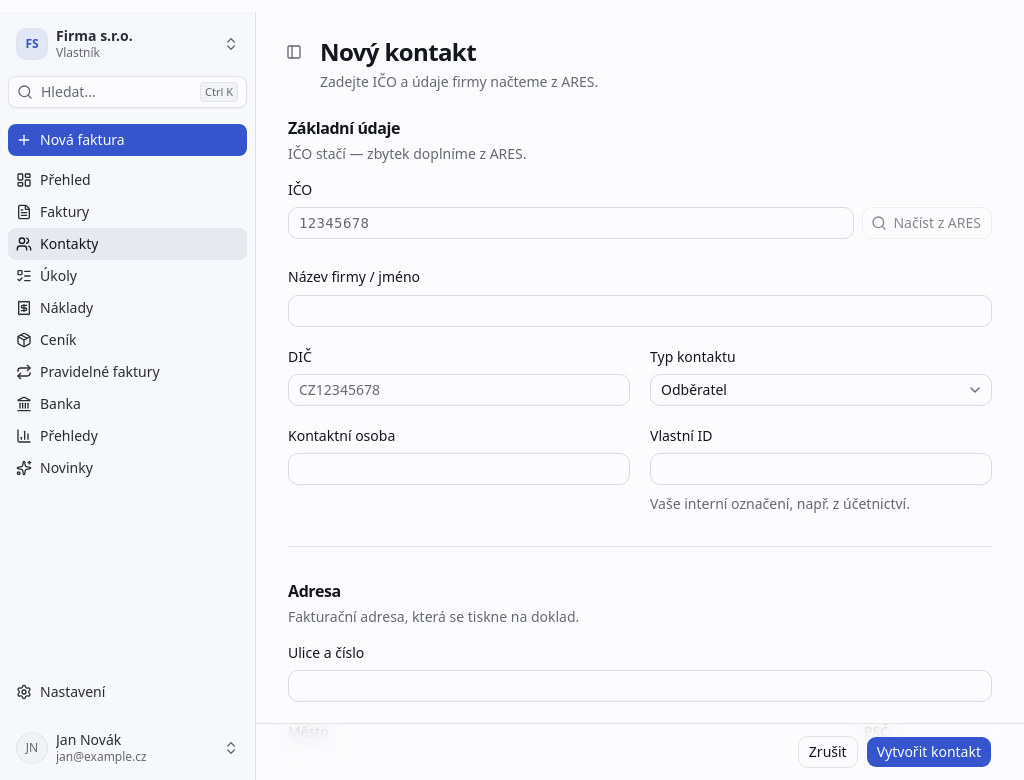
Test case: formulář kontaktu › nenalezené IČO a nedostupný ARES mají srozumitelné hlášky
Check: the heading "Nový kontakt" is shown, box x1=320 y1=35 x2=476 y2=68
Type "19" into the field labelled "IČO" at (571, 223), box x1=288 y1=207 x2=854 y2=239
Then press Enter
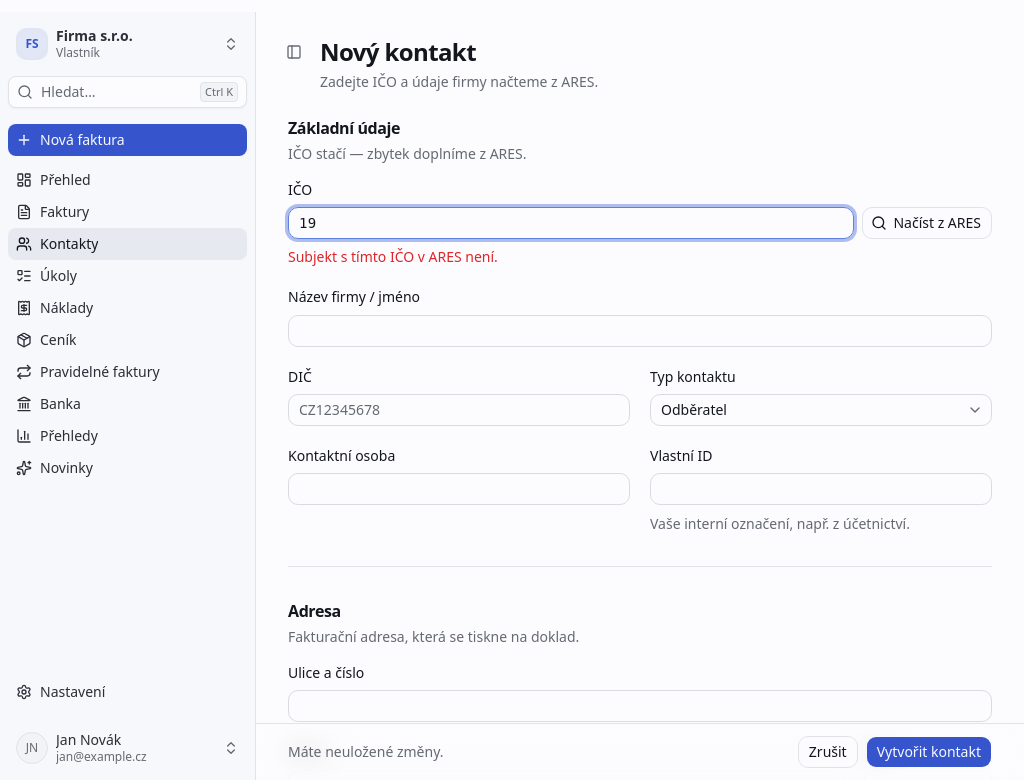
Check: the text "Subjekt s tímto IČO v ARES není." is shown, box x1=288 y1=247 x2=498 y2=266
Replace the text in the field labelled "IČO" with "27" at (571, 223), box x1=288 y1=207 x2=854 y2=239
Then press Enter
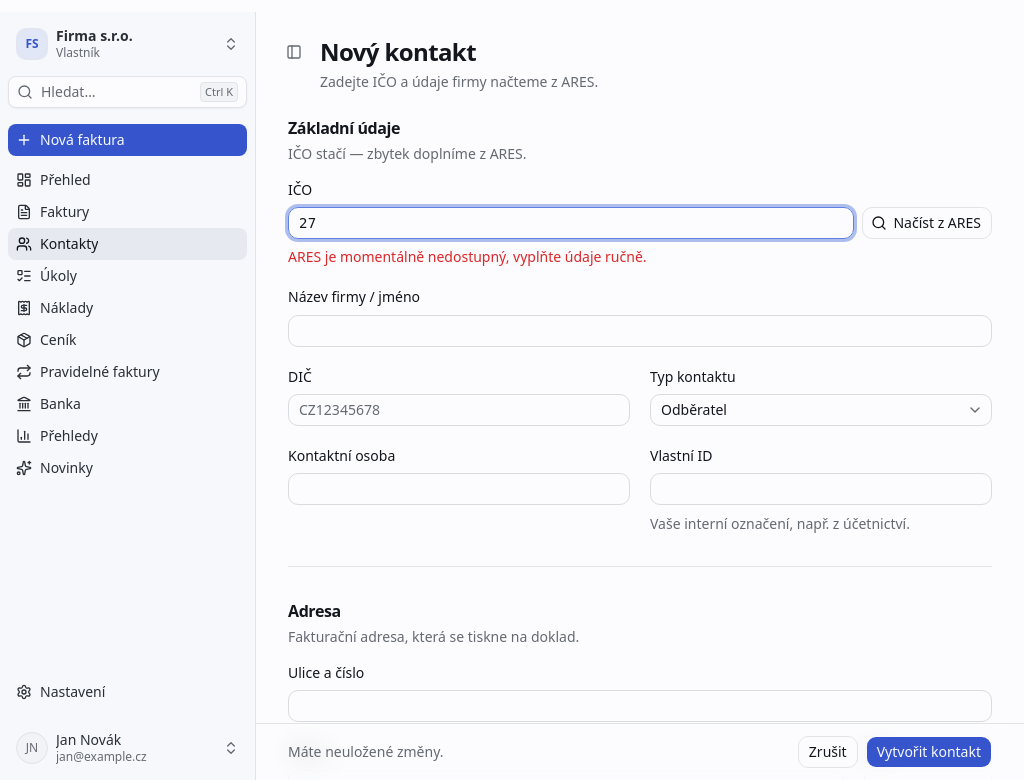
Check: the field labelled "Název firmy / jméno" is enabled, box x1=288 y1=314 x2=992 y2=346
Check: the text "ARES je momentálně nedostupný, vyplňte údaje ručně." is shown, box x1=288 y1=247 x2=646 y2=266
